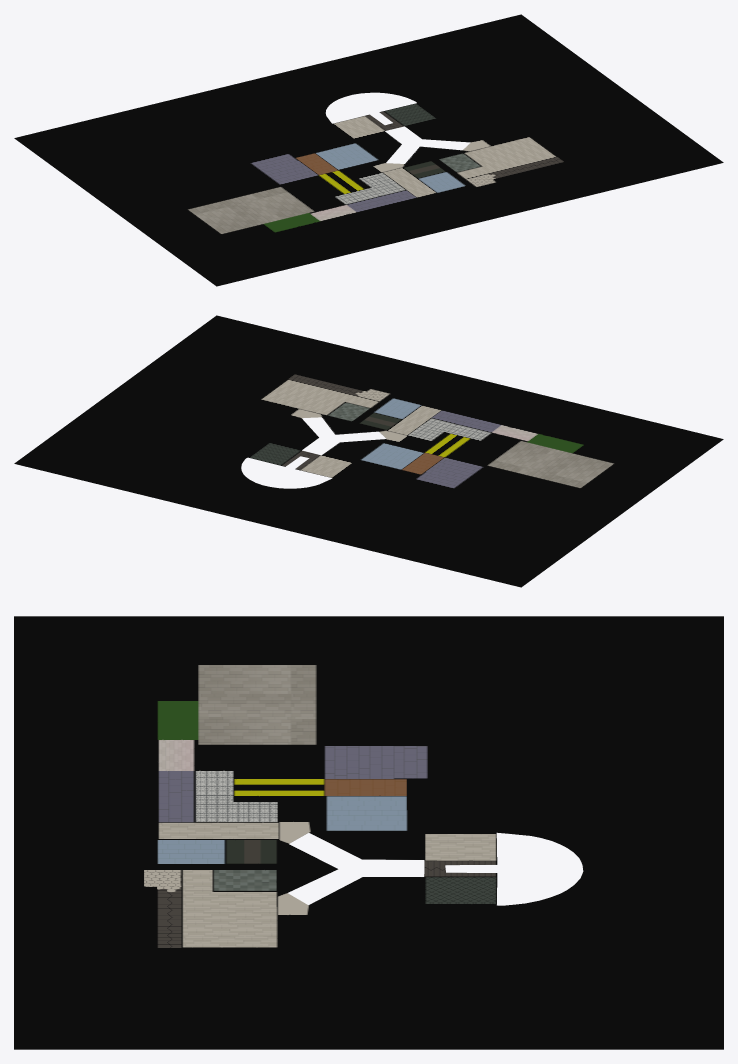
The model's file is MiraHQ Ground.fbx.
3 views of the same model, one above another, from view 1: azimuth 30°, elevation 25°; view 2: azimuth 150°, elevation 25°; view 3: azimuth 270°, elevation 25° (orthographic). The views are drawn at different scales.
Parts seen in each view (by area): view 1: Plane; view 2: Plane; view 3: Plane.
Part boxes in pixels (left/top/right/bottom): Plane: left=14, top=14, right=723, bottom=286; Plane: left=14, top=315, right=723, bottom=587; Plane: left=14, top=616, right=723, bottom=1049.
Size of the model in its own units: 6000 by 0.0012 by 4152.
